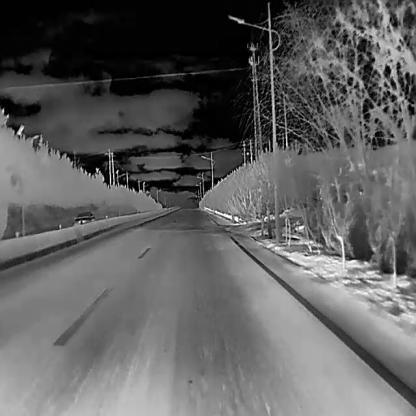car: (74, 210, 94, 226)
